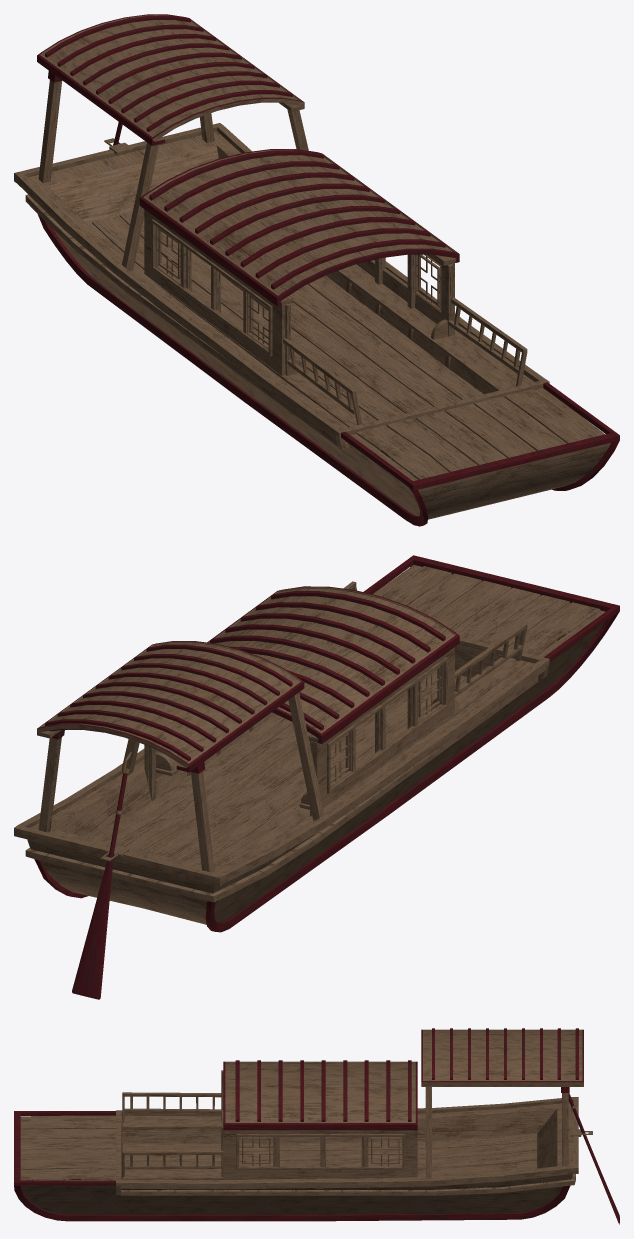
Rendered from SM_boat.fbx.
3 renders of one model, top to bottom at view 1: azimuth 30°, elevation 25°; view 2: azimuth 150°, elevation 25°; view 3: azimuth 270°, elevation 25°, orthographic. The views are drawn at different scales.
Visible parts, largest first — view 1: SM_boat; view 2: SM_boat; view 3: SM_boat.
Part boxes in pixels (x1,y1,x2,y2): SM_boat: (14, 14, 619, 526); SM_boat: (14, 555, 619, 999); SM_boat: (14, 1028, 619, 1224).
Size of the model in its own units: 422 by 1487 by 478.
3 materials, 3 textured.
